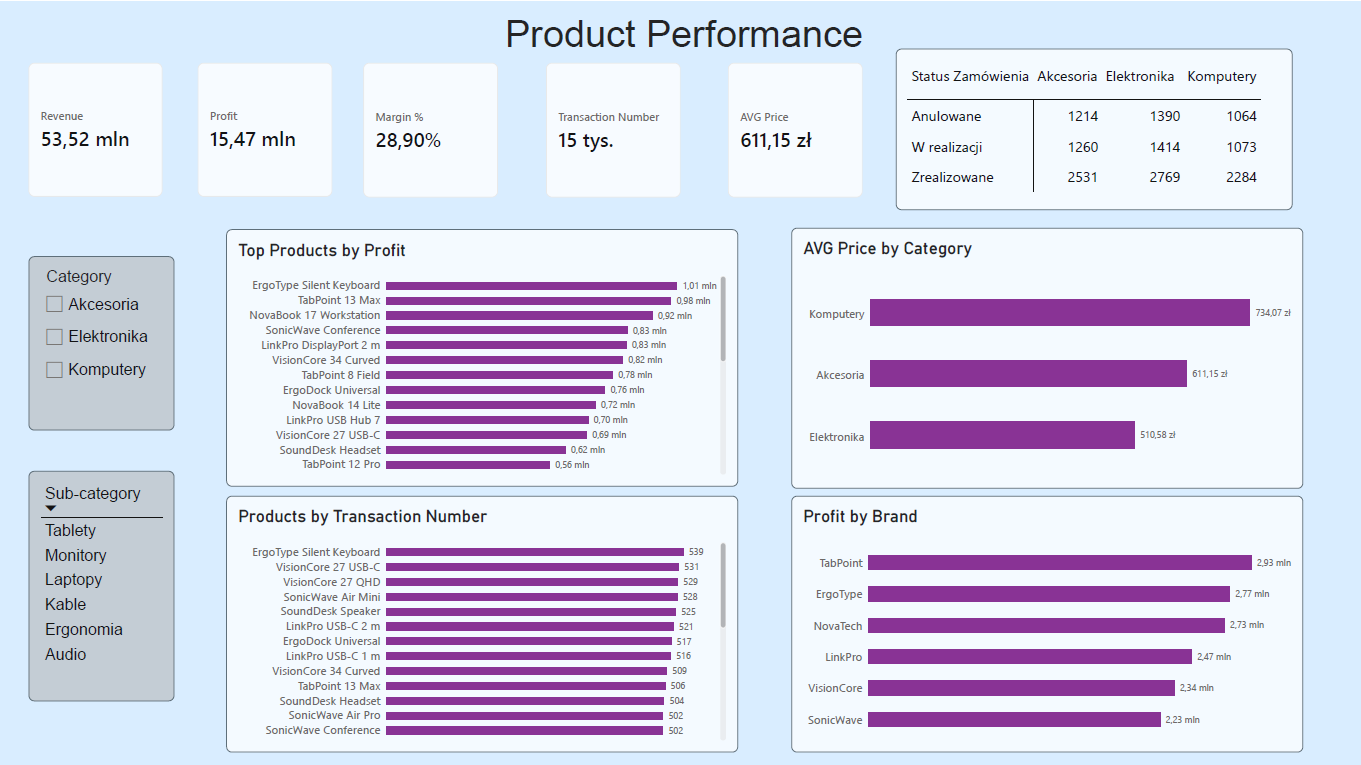

The dashboard page shown, as its layout file describes it:
{"tool":"powerbi","page":{"name":"Product Performance","canvas":[1920,1080],"ordinal":1},"visuals":[{"type":"textbox","box":[10,15,1910,71.7],"z":0},{"type":"slicer","fields":{"Values":["produkty.Kategoria"]},"box":[42.9,358.6,205,245],"z":2000},{"type":"tableEx","fields":{"Values":["produkty.Podkategoria"]},"box":[42.9,661.4,205,323.3],"z":3000},{"type":"barChart","title":"Top Products by Profit","fields":{"Category":["produkty.NazwaProduktu"],"Y":["Miary.Profit"]},"box":[321.4,321.4,720,361.4],"z":4000},{"type":"cardVisual","fields":{"Data":["Miary.Revenue"]},"box":[42.9,87.1,188.3,188.3],"z":9000},{"type":"cardVisual","fields":{"Data":["Miary.Profit"]},"box":[281.4,87.1,188.3,188.3],"z":10000},{"type":"pivotTable","fields":{"Columns":["produkty.Kategoria"],"Rows":["sprzedaz.StatusZamowienia"],"Values":["Miary.Transaction Number"]},"box":[1262.9,67.1,558.6,227.1],"z":11000},{"type":"cardVisual","fields":{"Data":["Miary.Margin %"]},"box":[514.3,87.1,188.6,188.6],"z":12000},{"type":"cardVisual","fields":{"Data":["Miary.Transaction Number"]},"box":[771.4,87.1,188.6,188.6],"z":13000},{"type":"clusteredBarChart","title":"Products by Transaction Number","fields":{"Category":["produkty.NazwaProduktu"],"Y":["Miary.Transaction Number"]},"box":[321.4,695.7,720,361.4],"z":13001},{"type":"cardVisual","fields":{"Data":["Miary.AVG Price"]},"box":[1027.1,87.1,188.6,188.6],"z":13002},{"type":"clusteredBarChart","title":"AVG Price by Category","fields":{"Category":["produkty.Kategoria"],"Y":["Miary.AVG Price"]},"box":[1115.7,318.6,720,367.1],"z":13003},{"type":"clusteredBarChart","title":"Profit by Brand","fields":{"Category":["produkty.Marka"],"Y":["Miary.Profit"]},"box":[1115.7,695.7,720,361.4],"z":13004}]}

Visuals, with their boxes in screenshot pixels (x1, y1, x2, y2), scaled from the page's 1920x1080 canvas onto the 1361x765 screenshot:
textbox: box=[7, 11, 1360, 61]
slicer - produkty.Kategoria: box=[30, 254, 176, 428]
tableEx - produkty.Podkategoria: box=[30, 468, 176, 697]
"Top Products by Profit" barChart: box=[228, 228, 738, 484]
cardVisual - Miary.Revenue: box=[30, 62, 164, 195]
cardVisual - Miary.Profit: box=[199, 62, 333, 195]
pivotTable - produkty.Kategoria x sprzedaz.StatusZamowienia: box=[895, 48, 1291, 208]
cardVisual - Miary.Margin %: box=[365, 62, 498, 195]
cardVisual - Miary.Transaction Number: box=[547, 62, 680, 195]
"Products by Transaction Number" clusteredBarChart: box=[228, 493, 738, 749]
cardVisual - Miary.AVG Price: box=[728, 62, 862, 195]
"AVG Price by Category" clusteredBarChart: box=[791, 226, 1301, 486]
"Profit by Brand" clusteredBarChart: box=[791, 493, 1301, 749]
